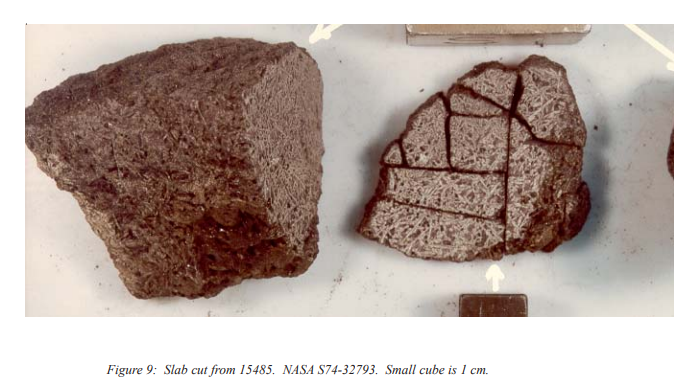Basalt: (64, 36, 315, 287), (416, 81, 585, 256), (112, 94, 228, 233), (431, 131, 530, 219)
